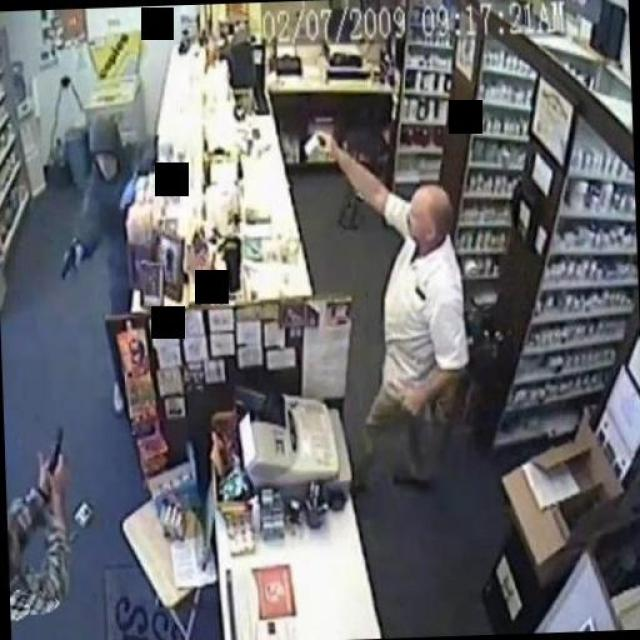gun: (40, 425, 64, 475), (56, 240, 78, 281)
